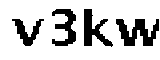3: (48, 6, 78, 49)
k: (83, 5, 115, 50)
v: (10, 16, 46, 48)
w: (117, 16, 160, 48)
